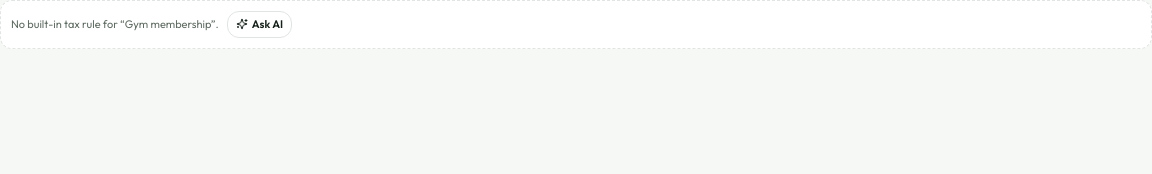
Test case: TaxTreatmentHint › applies nothing by itself: "Use this" only appears with onUse, and fills the field when pressed
The width and height of the screenshot is (1152, 174).
Earlier steps of the test are not shown.
Later steps or results of the test are not shown.
Click the button "Ask AI" at (259, 24), box [227, 11, 292, 38]
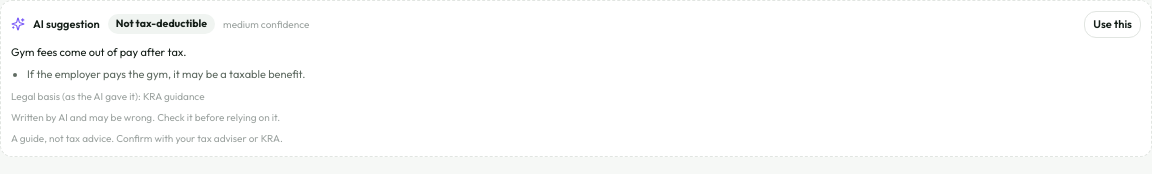
Now the text "AI suggestion" is shown, box [33, 16, 100, 32]
